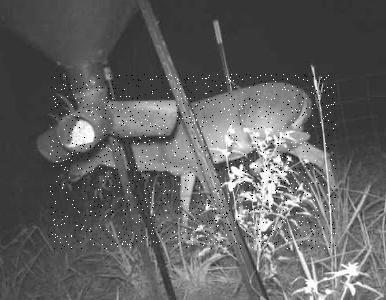Deer: (49, 74, 336, 249)
